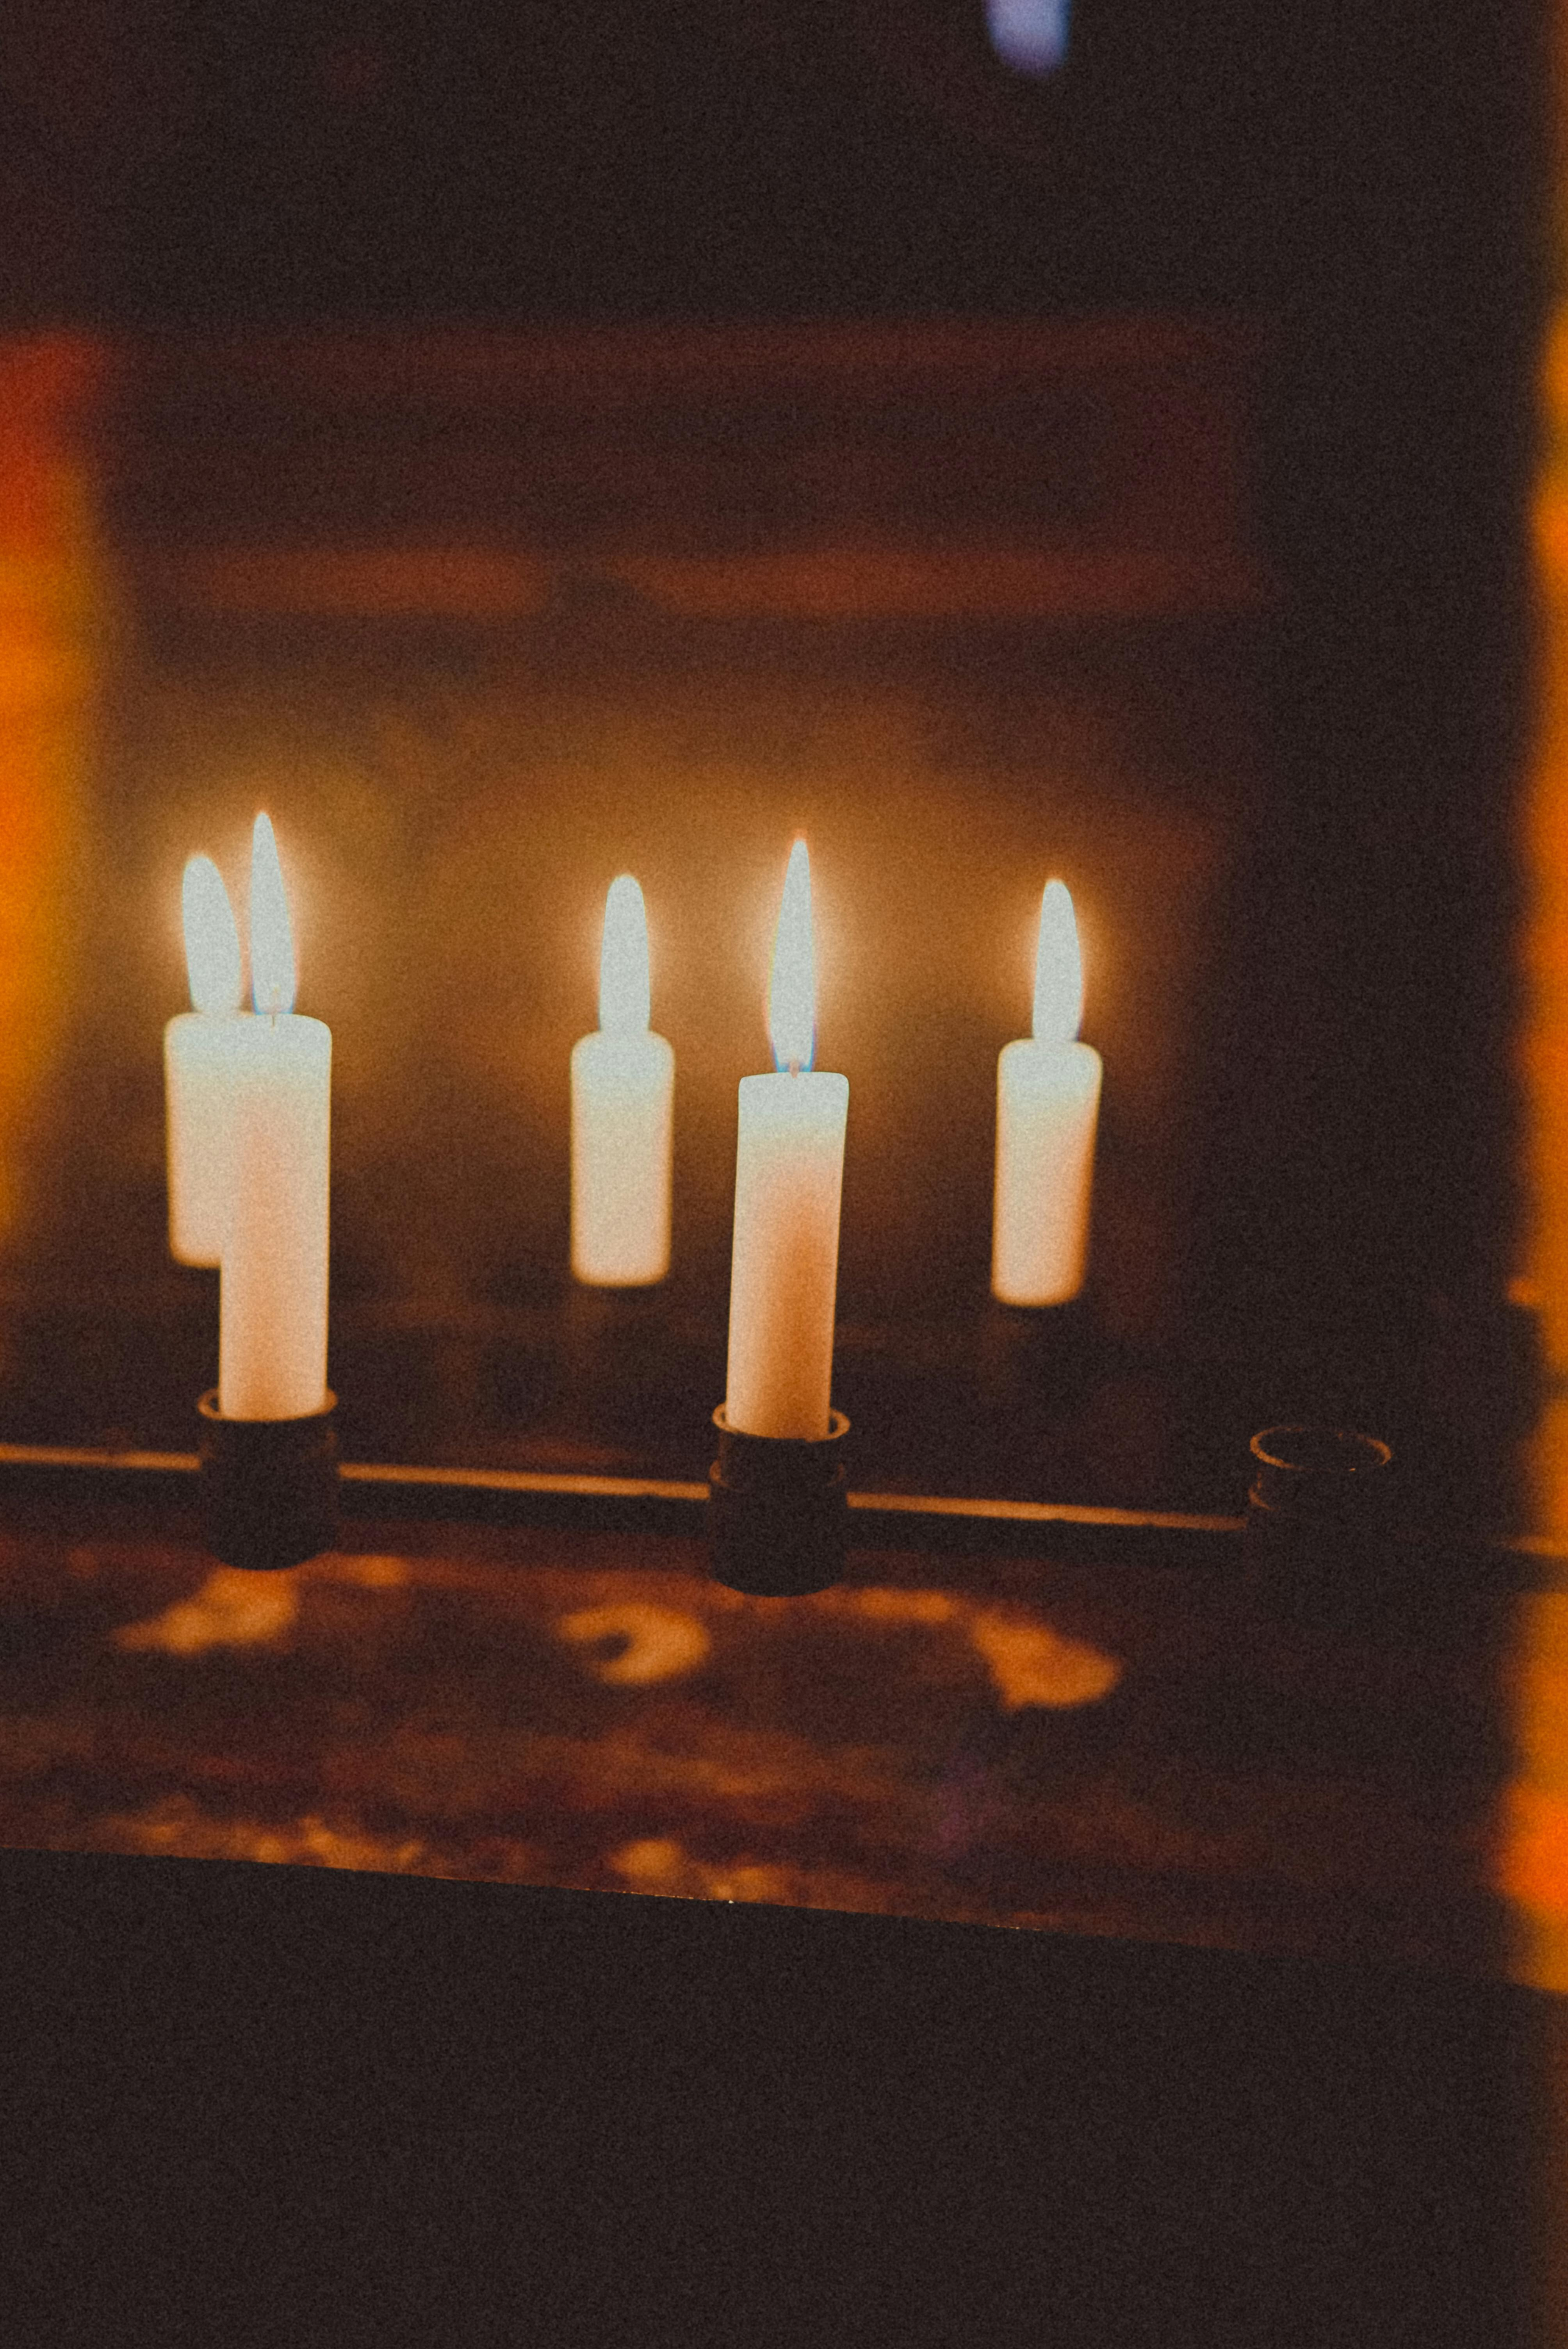Fire: (171, 812, 1122, 1045)
